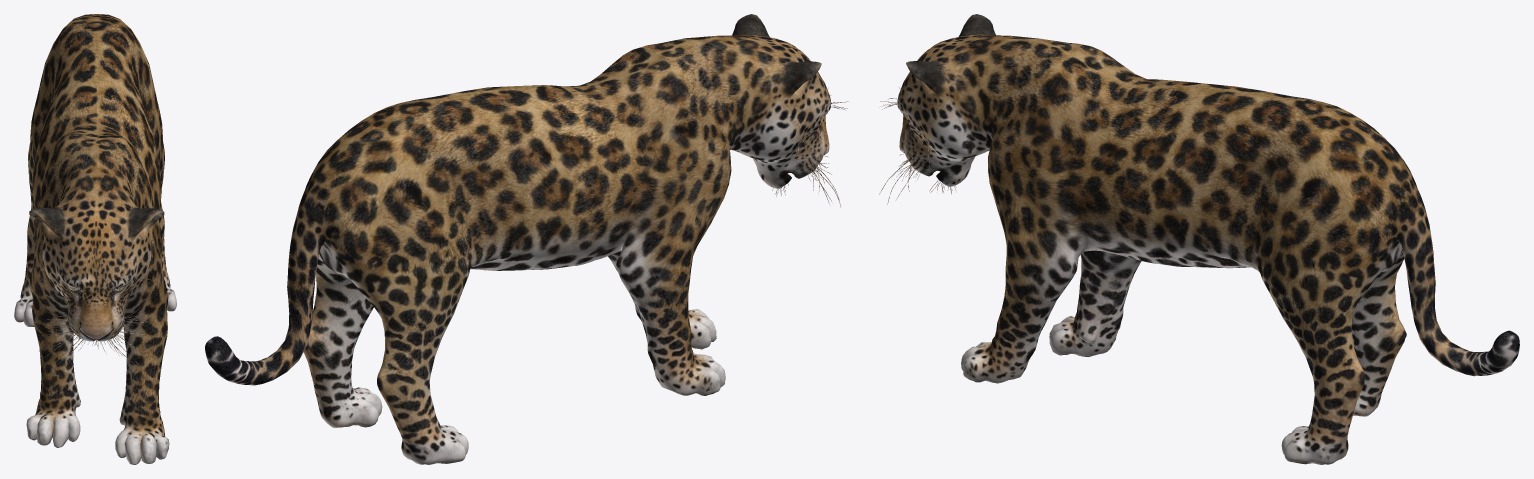
File: jaguar.glb
3 renders of one model, left to right at view 1: azimuth 30°, elevation 25°; view 2: azimuth 150°, elevation 25°; view 3: azimuth 270°, elevation 25°, orthographic. The views are drawn at different scales.
Visible parts, largest first — view 1: Yaguarete_aiStandardSurface_0; view 2: Yaguarete_aiStandardSurface_0; view 3: Yaguarete_aiStandardSurface_0.
Part boxes in pixels (bbox=[...]): Yaguarete_aiStandardSurface_0: bbox=[14, 14, 176, 464]; Yaguarete_aiStandardSurface_0: bbox=[205, 14, 848, 464]; Yaguarete_aiStandardSurface_0: bbox=[879, 14, 1519, 464].
Size of the model in its own units: 0.9149 by 0.8145 by 1.46.
Materials: 2 (1 with a texture image).
